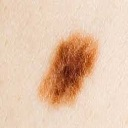Melanoma: (43, 40, 95, 94)
